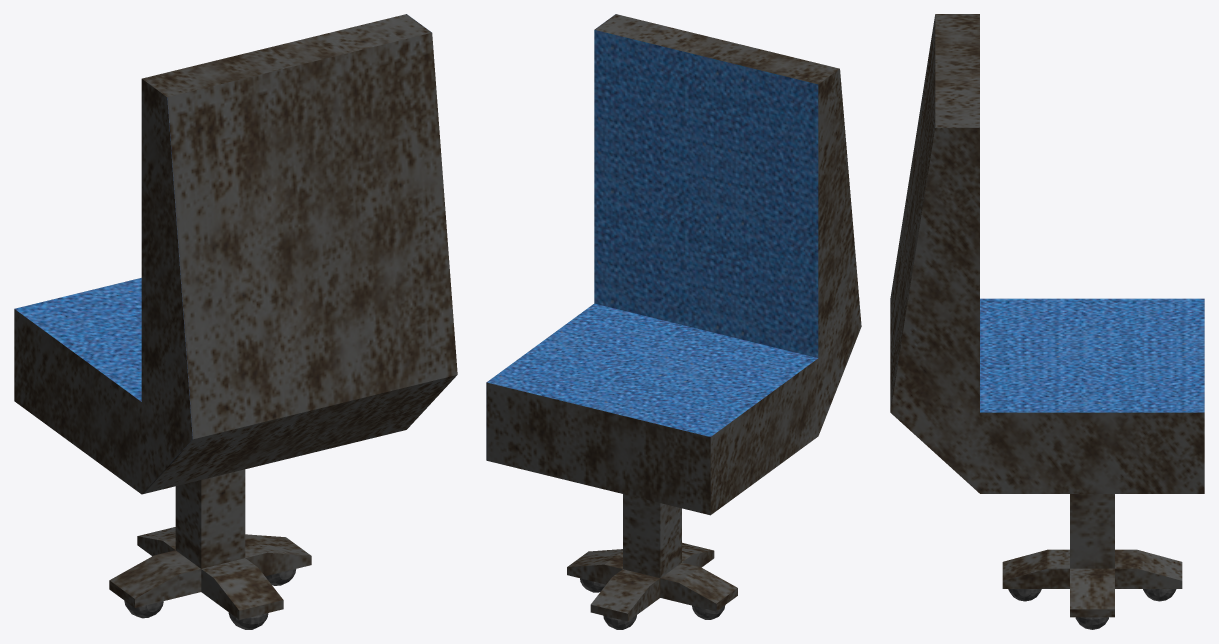
Rendered from Chair.fbx.
3 renders of one model, left to right at view 1: azimuth 30°, elevation 25°; view 2: azimuth 150°, elevation 25°; view 3: azimuth 270°, elevation 25°, orthographic. The views are drawn at different scales.
Visible parts, largest first — view 1: Chair; view 2: Chair; view 3: Chair.
Boxes of the visible parts, bbox=[...] form: Chair: bbox=[14, 14, 457, 629]; Chair: bbox=[486, 14, 861, 629]; Chair: bbox=[890, 14, 1204, 629].
Bounding box in the file's own units: 60 × 130 × 70.
